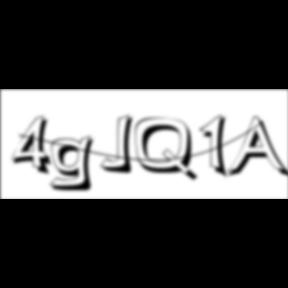1: (200, 114, 234, 182)
4: (12, 115, 58, 179)
J: (101, 114, 140, 176)
Q: (135, 117, 201, 184)
g: (49, 134, 101, 194)
